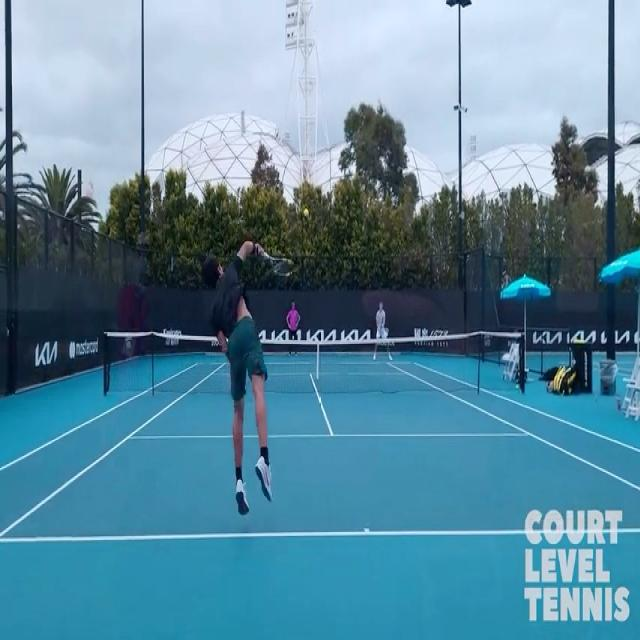serve_hit: (198, 199, 292, 531)
